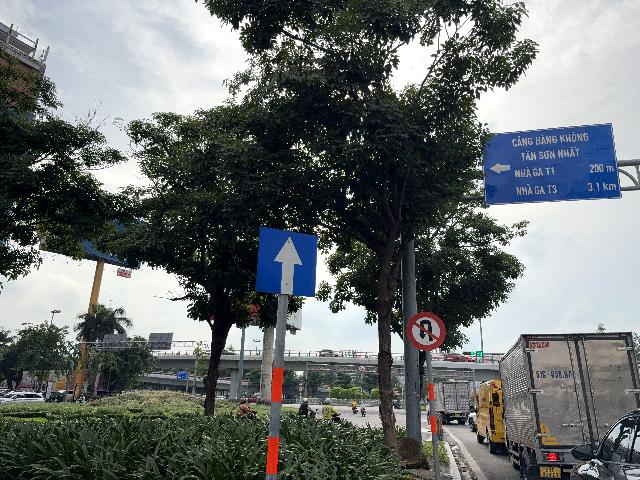cam-quay-dau-xe: (406, 311, 446, 351)
duong-mot-chieu: (255, 226, 317, 297)
